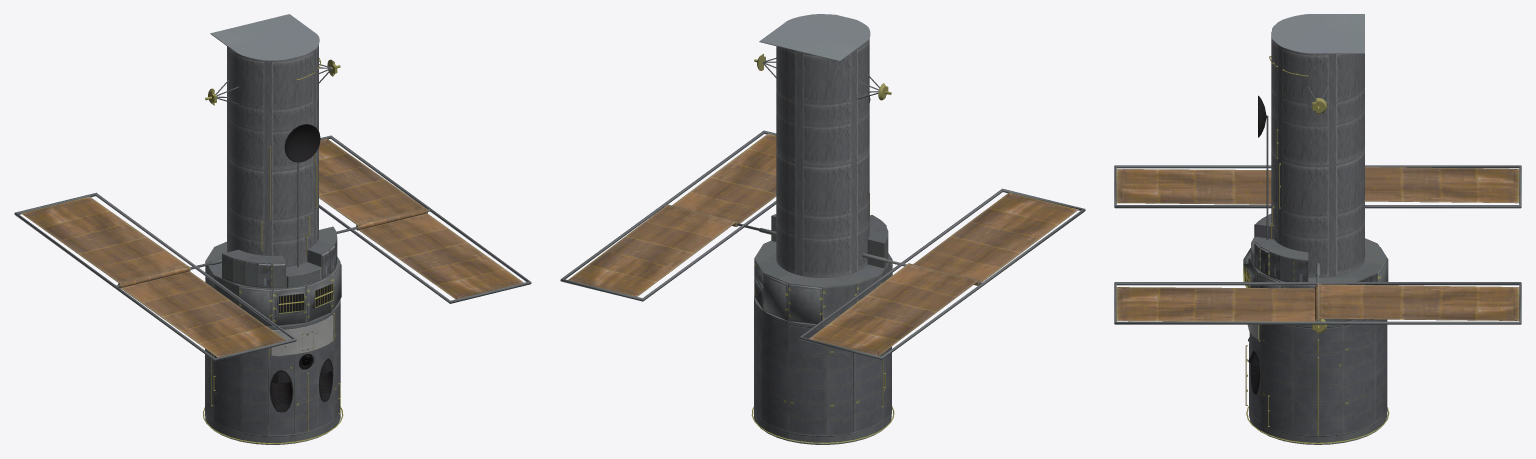
3 renders of one model, left to right at view 1: azimuth 30°, elevation 25°; view 2: azimuth 150°, elevation 25°; view 3: azimuth 270°, elevation 25°, orthographic.
Visible parts, largest first — view 1: hst; view 2: hst; view 3: hst.
Part boxes in pixels (<box>): hst: <box>14,14,531,444</box>; hst: <box>560,14,1085,444</box>; hst: <box>1114,14,1521,444</box>.
Size of the model in its own units: 11.64 by 13.35 by 12.73.
5 materials, 5 textured.
